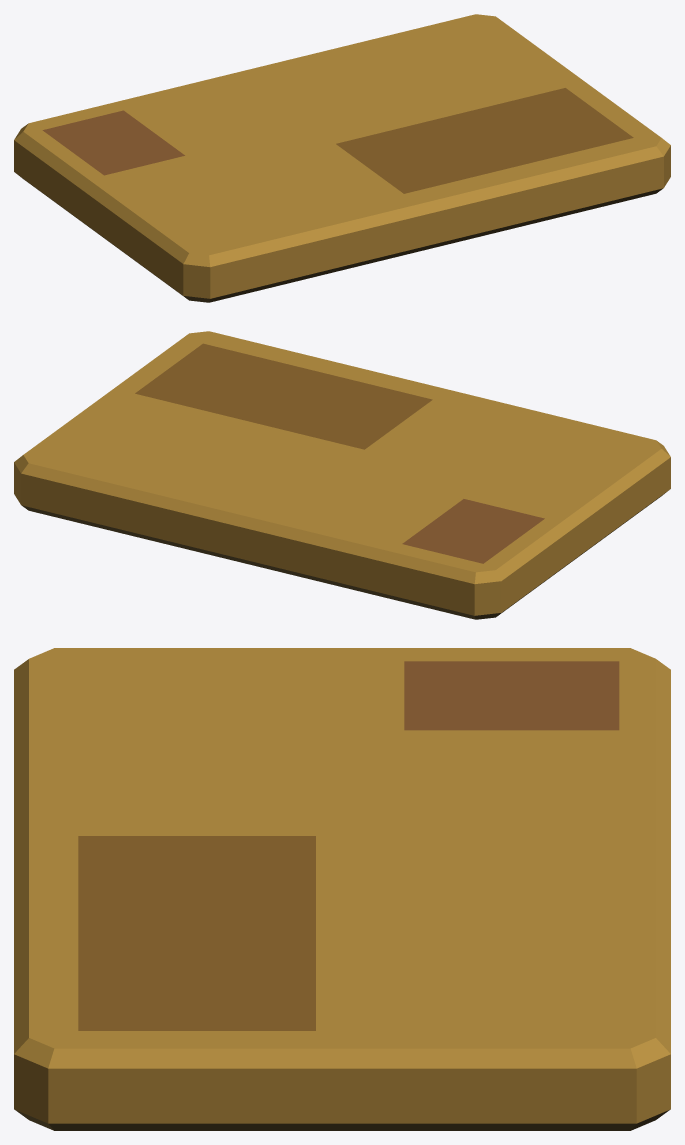
File: item_mealsurvival_a.obj
3 renders of one model, top to bottom at view 1: azimuth 30°, elevation 25°; view 2: azimuth 150°, elevation 25°; view 3: azimuth 270°, elevation 25°, orthographic. The views are drawn at different scales.
Bounding box in the file's own units: 0.8668 × 0.0806 × 0.5824.
